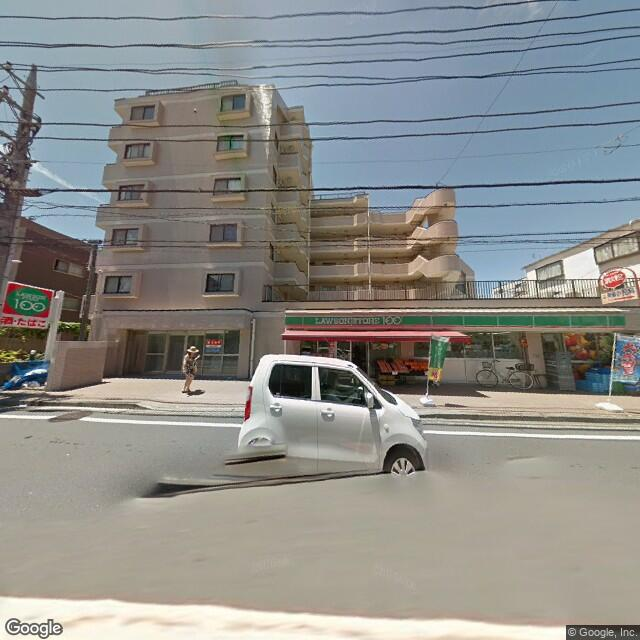lawson: (285, 306, 628, 335), (5, 284, 46, 322)
